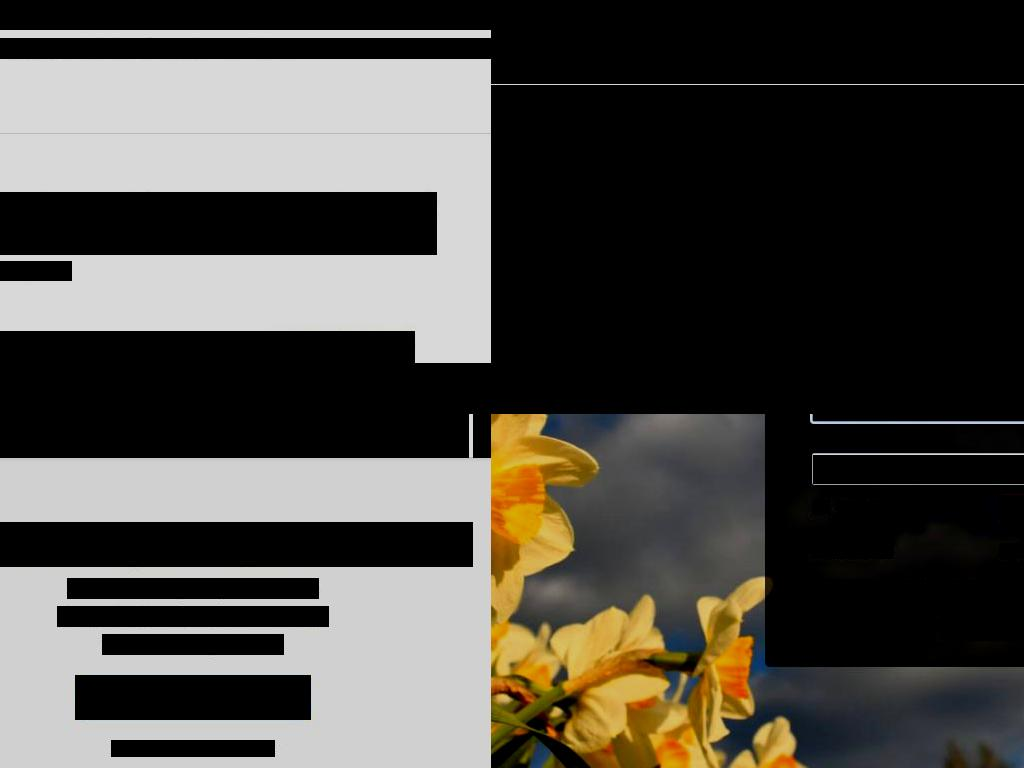button: (491, 142, 935, 414), (943, 142, 1024, 408), (491, 0, 755, 54), (75, 675, 311, 720), (45, 12, 476, 29), (812, 543, 894, 559), (984, 25, 1024, 55), (1000, 495, 1024, 523), (1000, 495, 1024, 521), (999, 543, 1024, 559)
field: (0, 414, 469, 458), (813, 455, 1024, 484), (813, 414, 1024, 421), (473, 414, 491, 458)
heading: (0, 192, 437, 255), (0, 522, 473, 567), (45, 0, 476, 24), (491, 93, 626, 114), (953, 281, 1024, 303)
image: (491, 142, 934, 414), (0, 0, 491, 30), (943, 142, 1024, 296), (793, 615, 936, 641), (939, 615, 1024, 641), (812, 499, 829, 515)
link: (0, 331, 415, 383), (631, 93, 1024, 114)
text: (0, 363, 491, 414), (75, 675, 311, 720), (0, 38, 491, 59), (792, 579, 1024, 615), (57, 606, 329, 627), (0, 331, 271, 351), (67, 578, 319, 599), (953, 306, 1024, 378), (102, 634, 284, 655), (0, 261, 72, 281), (836, 500, 927, 515), (214, 740, 275, 757), (111, 740, 171, 757), (812, 433, 879, 447), (171, 740, 214, 757), (953, 378, 987, 397)
